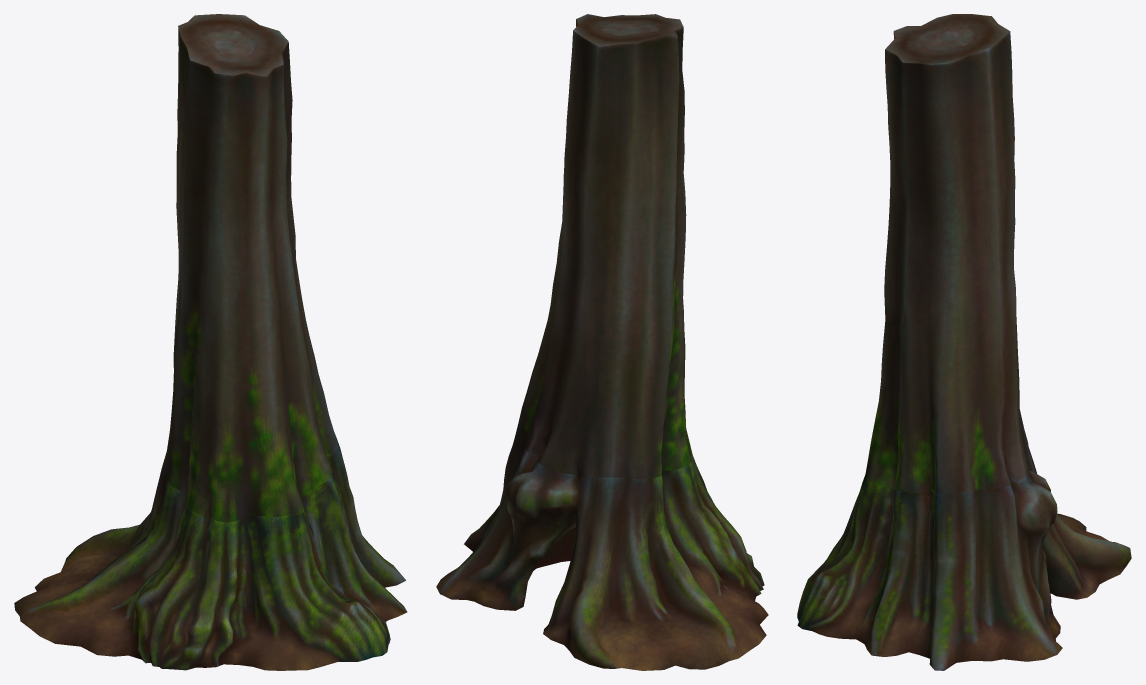
Rendered from CedarTree_DEFAULT.dae.
3 renders of one model, left to right at view 1: azimuth 30°, elevation 25°; view 2: azimuth 150°, elevation 25°; view 3: azimuth 270°, elevation 25°, orthographic. The views are drawn at different scales.
Parts seen in each view (by area): view 1: mesh1, mesh0; view 2: mesh1, mesh0; view 3: mesh1, mesh0.
Boxes of the visible parts, left/top/right/bottom form: mesh1: left=162, top=14, right=337, bottom=522; mesh0: left=14, top=439, right=407, bottom=670; mesh1: left=518, top=14, right=692, bottom=479; mesh0: left=436, top=423, right=768, bottom=670; mesh1: left=865, top=14, right=1028, bottom=495; mesh0: left=797, top=447, right=1131, bottom=670.
Size of the model in its own units: 7.95 by 13.25 by 7.16.
